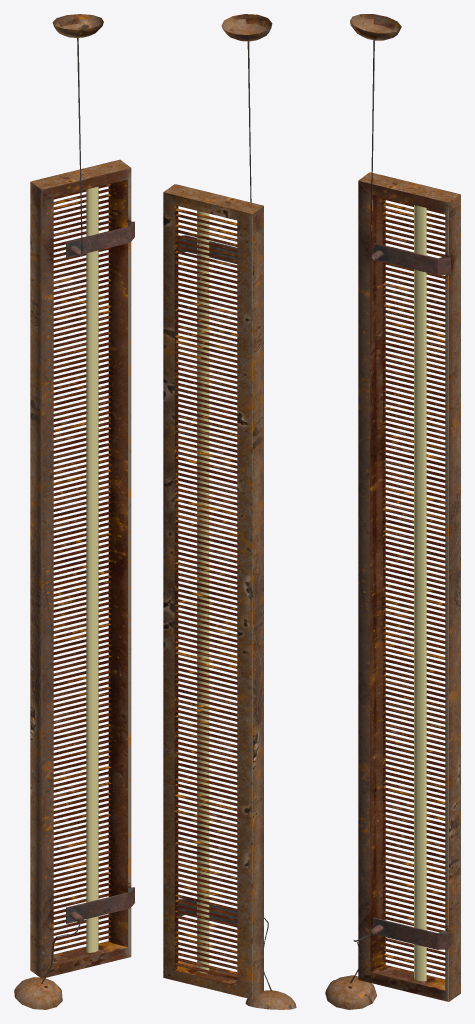
Rendered from Ceiling lamp-V03-FBX.fbx.
3 renders of one model, left to right at view 1: azimuth 30°, elevation 25°; view 2: azimuth 150°, elevation 25°; view 3: azimuth 330°, elevation 25°, orthographic.
Parts seen in each view (by area): view 1: Ceiling_lamp; view 2: Ceiling_lamp; view 3: Ceiling_lamp.
Part boxes in pixels (x1,y1,x2,y2): Ceiling_lamp: [14, 14, 134, 1009]; Ceiling_lamp: [163, 14, 296, 1009]; Ceiling_lamp: [325, 14, 460, 1009].
Size of the model in its own units: 32 by 250 by 15.
Materials: 1 (1 with a texture image).
